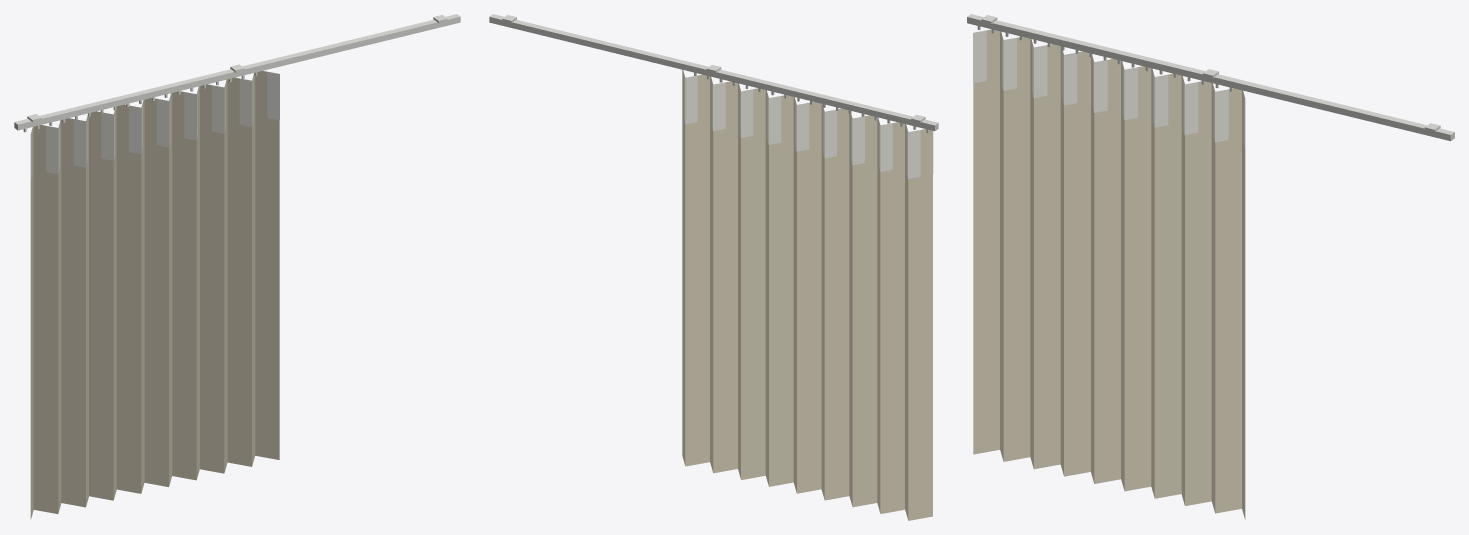
The model's file is curtain_rail.fbx.
3 renders of one model, left to right at view 1: azimuth 30°, elevation 25°; view 2: azimuth 150°, elevation 25°; view 3: azimuth 330°, elevation 25°, orthographic. The views are drawn at different scales.
Parts seen in each view (by area): view 1: curtain_rail_cloth, curtain_rail; view 2: curtain_rail_cloth, curtain_rail; view 3: curtain_rail_cloth, curtain_rail.
Part boxes in pixels (box(x1,y1,x2,y2)): curtain_rail_cloth: box(23, 71, 279, 519); curtain_rail: box(14, 14, 460, 130); curtain_rail_cloth: box(682, 69, 933, 520); curtain_rail: box(489, 14, 938, 131); curtain_rail_cloth: box(973, 26, 1245, 519); curtain_rail: box(967, 14, 1454, 141).
Bounding box in the file's own units: 240 × 206 × 10.4.
